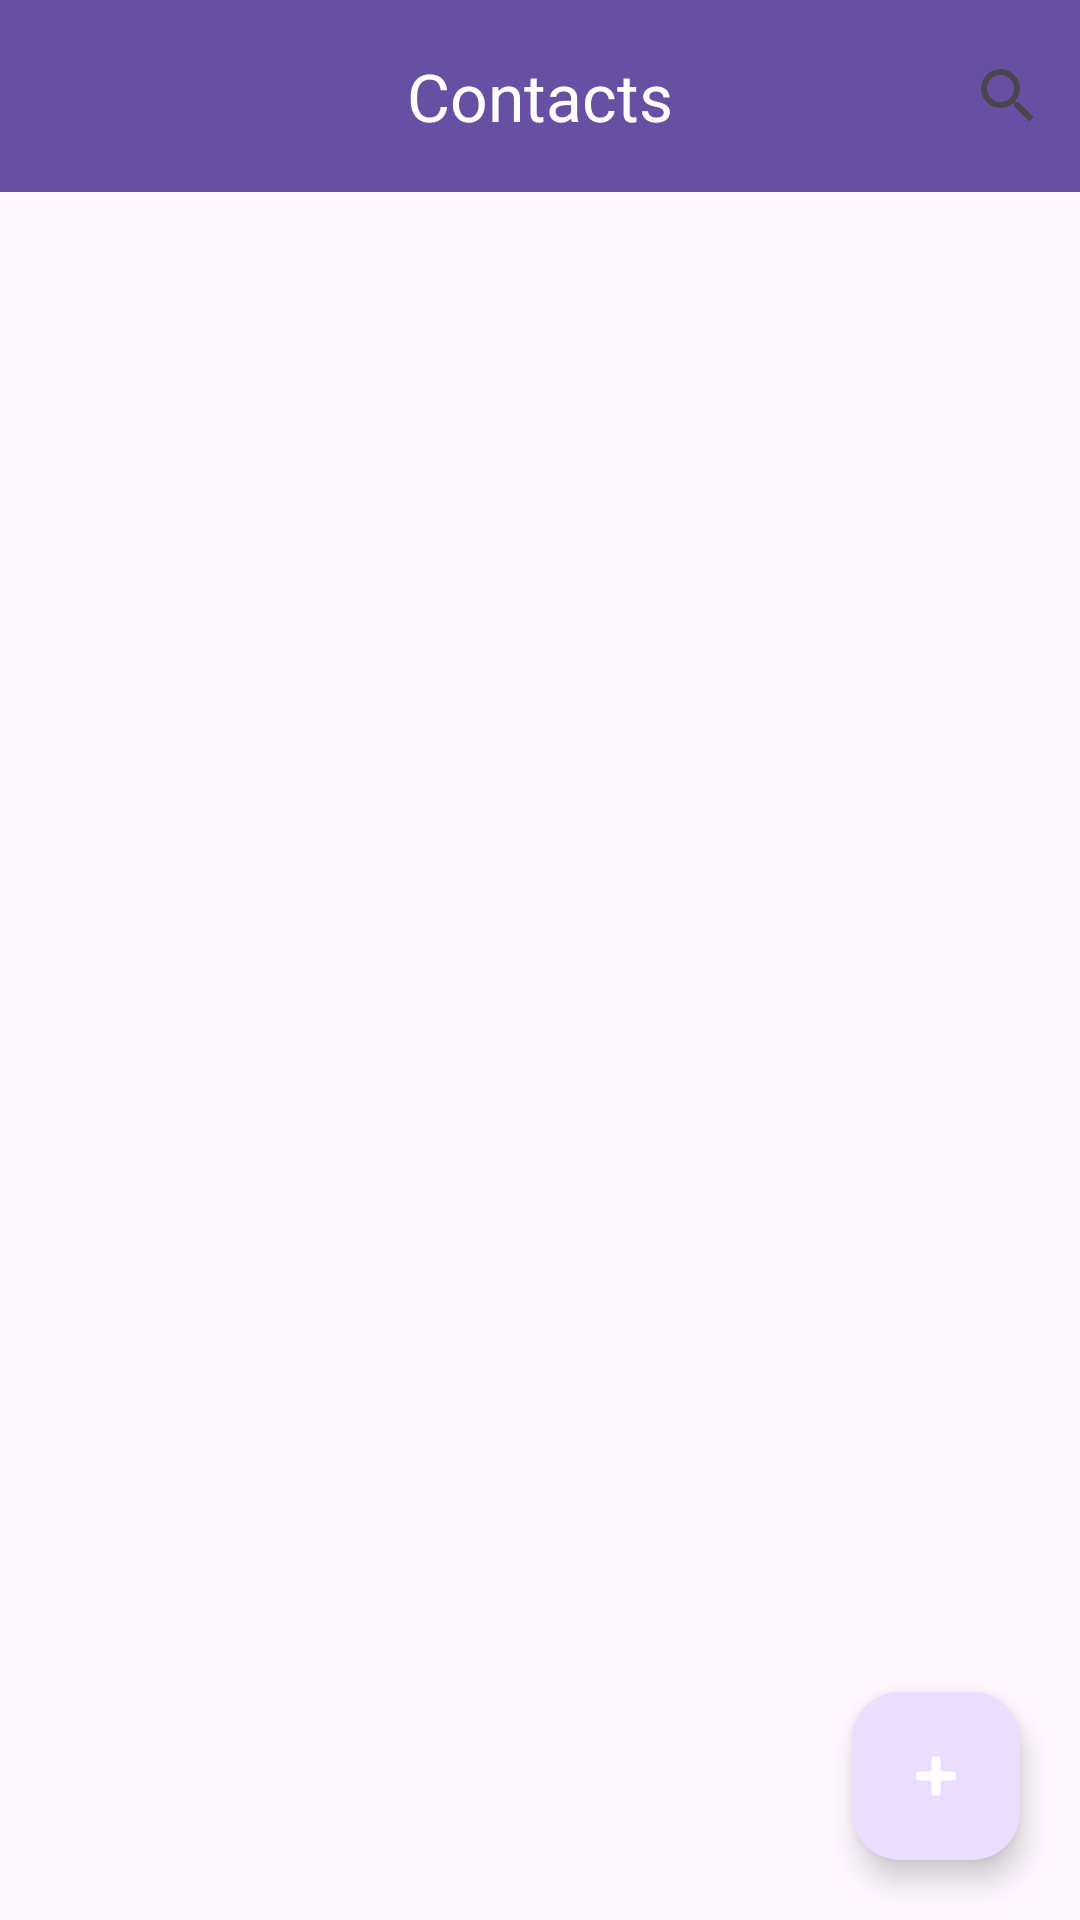

Where to tap for icons on this 1080px x 1920px app screen, as (x,y):
Add Contact: (936,1776)
